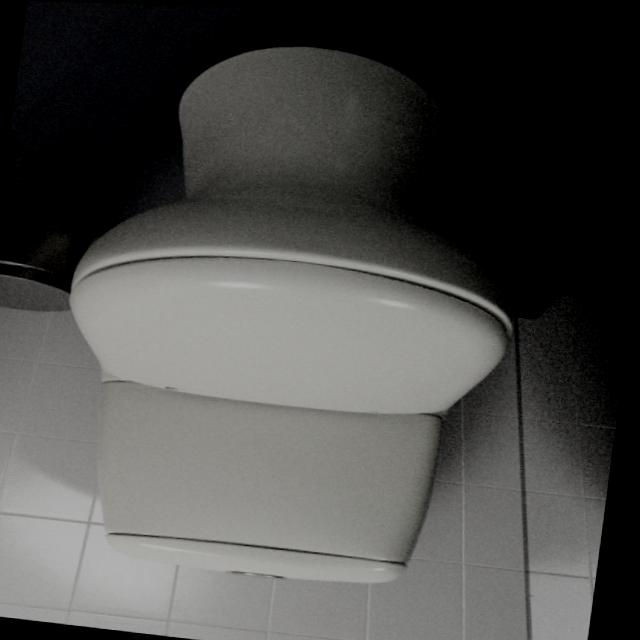toilet: (36, 20, 549, 601)
